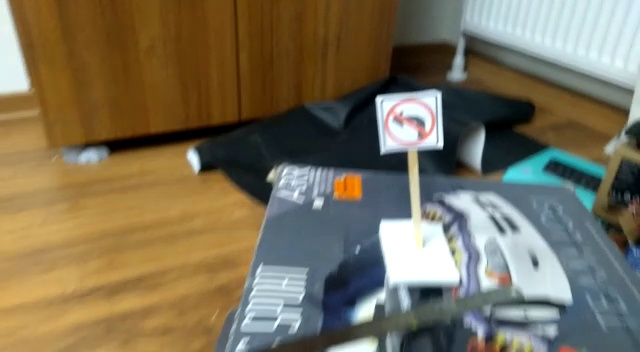sola_donulmez: (381, 95, 440, 149)
